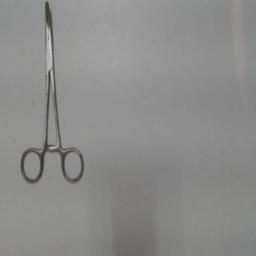Crile Artery Forceps: (18, 0, 88, 186)
